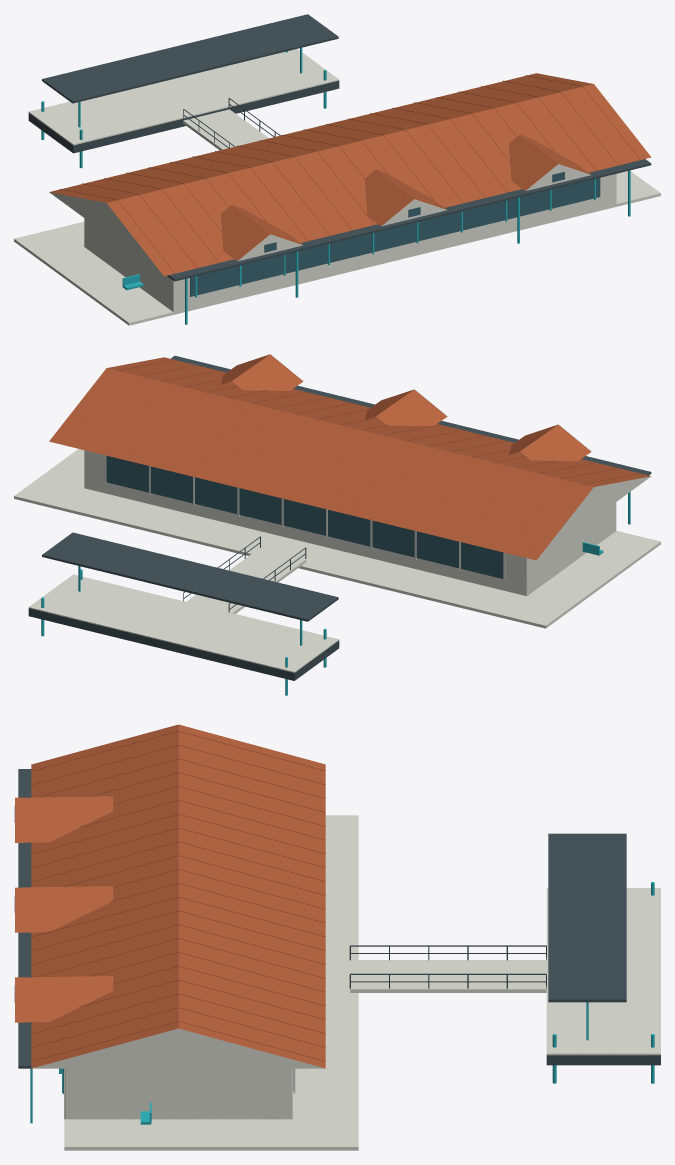
The model's file is WaterTransitTerminal.glb.
3 renders of one model, top to bottom at view 1: azimuth 30°, elevation 25°; view 2: azimuth 150°, elevation 25°; view 3: azimuth 270°, elevation 25°, orthographic. The views are drawn at different scales.
Parts seen in each view (by area): view 1: WaterTransitTerminal_V8_Kerala_Terracotta_Roof, WaterTransitTerminal_V8_Concrete_Ivory, WaterTransitTerminal_V8_Roof_Graphite, WaterTransitTerminal_V8_Transit_Window_Glass, WaterTransitTerminal_V8_Transit_Teal; view 2: WaterTransitTerminal_V8_Kerala_Terracotta_Roof, WaterTransitTerminal_V8_Concrete_Ivory, WaterTransitTerminal_V8_Roof_Graphite, WaterTransitTerminal_V8_Transit_Window_Glass, WaterTransitTerminal_V8_Transit_Teal; view 3: WaterTransitTerminal_V8_Kerala_Terracotta_Roof, WaterTransitTerminal_V8_Concrete_Ivory, WaterTransitTerminal_V8_Roof_Graphite, WaterTransitTerminal_V8_Transit_Teal.
Boxes of the visible parts, x1=… form: WaterTransitTerminal_V8_Kerala_Terracotta_Roof: x1=49, y1=73, x2=651, y2=276; WaterTransitTerminal_V8_Concrete_Ivory: x1=14, y1=49, x2=660, y2=325; WaterTransitTerminal_V8_Roof_Graphite: x1=28, y1=14, x2=651, y2=281; WaterTransitTerminal_V8_Transit_Window_Glass: x1=190, y1=172, x2=600, y2=296; WaterTransitTerminal_V8_Transit_Teal: x1=41, y1=47, x2=630, y2=324; WaterTransitTerminal_V8_Kerala_Terracotta_Roof: x1=49, y1=354, x2=650, y2=560; WaterTransitTerminal_V8_Concrete_Ivory: x1=14, y1=355, x2=660, y2=672; WaterTransitTerminal_V8_Roof_Graphite: x1=28, y1=355, x2=651, y2=680; WaterTransitTerminal_V8_Transit_Window_Glass: x1=106, y1=455, x2=503, y2=578; WaterTransitTerminal_V8_Transit_Teal: x1=41, y1=492, x2=630, y2=695; WaterTransitTerminal_V8_Kerala_Terracotta_Roof: x1=15, y1=724, x2=325, y2=1068; WaterTransitTerminal_V8_Concrete_Ivory: x1=32, y1=815, x2=660, y2=1150; WaterTransitTerminal_V8_Roof_Graphite: x1=18, y1=769, x2=660, y2=1068; WaterTransitTerminal_V8_Transit_Teal: x1=30, y1=882, x2=654, y2=1124.
Bounding box in the file's own units: 48 × 8.85 × 39.57.
